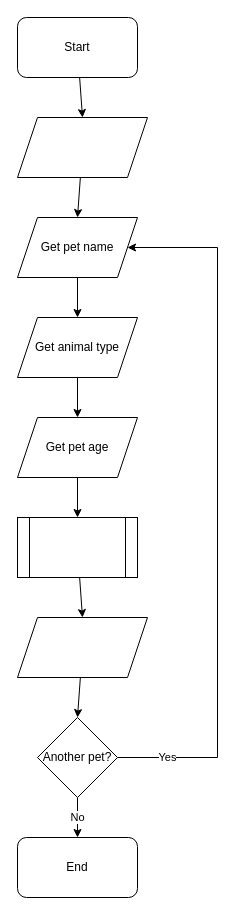
Image size: 243x915. Some labels were removed from this diagram. The box of each missing label's shape, as (x1, y1, x2, y2) in pixels:
Create pet object with input attributes: (16, 516, 138, 578)
Display pet object instance attributes: (16, 616, 148, 678)
While another == 'Y': (16, 116, 148, 178)
